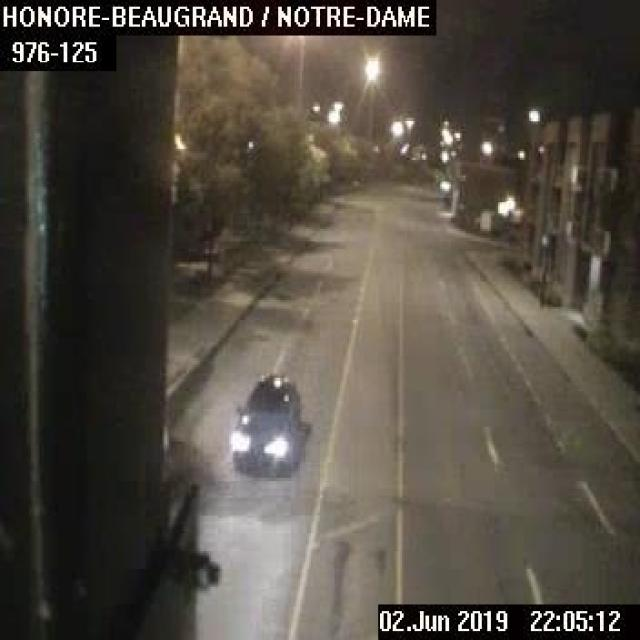vehicle: (229, 371, 300, 476)
